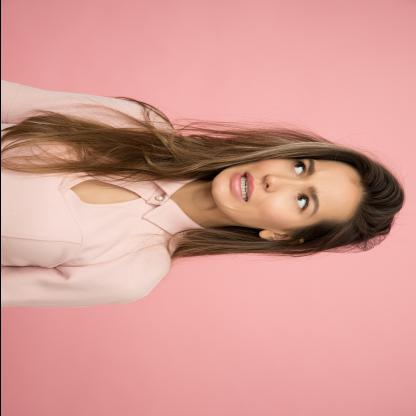Eye: (293, 192, 308, 213), (289, 159, 304, 177)
Mouth: (230, 171, 255, 203)
Nose: (263, 174, 297, 192)
